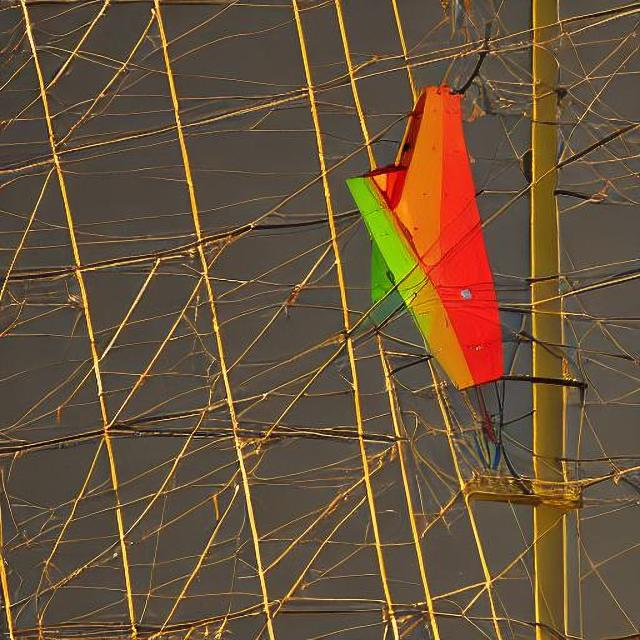floating object: (342, 87, 502, 397)
